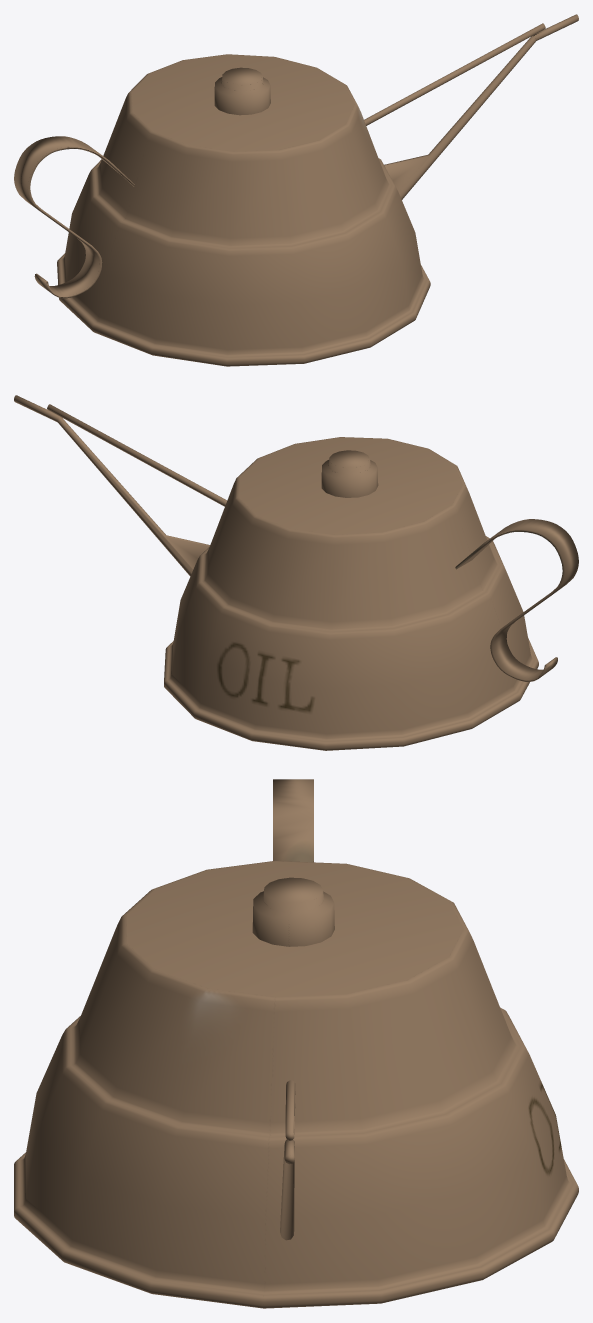
Rendered from collectible.fbx.
3 views of the same model, one above another, from view 1: azimuth 30°, elevation 25°; view 2: azimuth 150°, elevation 25°; view 3: azimuth 270°, elevation 25° (orthographic). The views are drawn at different scales.
Parts seen in each view (by area): view 1: Base, Nokka, Kahva, Korkki; view 2: Base, Nokka, Kahva, Korkki; view 3: Base, Korkki, Kahva, Nokka.
Boxes of the visible parts, x1,y1,x2,y2 form: Base: (57, 54, 430, 366); Nokka: (364, 14, 578, 199); Kahva: (14, 136, 134, 298); Korkki: (214, 67, 270, 115); Base: (164, 437, 538, 750); Nokka: (14, 395, 227, 576); Kahva: (455, 519, 578, 681); Korkki: (321, 450, 378, 497); Base: (14, 860, 578, 1308); Korkki: (252, 877, 334, 946); Kahva: (273, 779, 313, 862); Nokka: (280, 1080, 295, 1240).
Size of the model in its own units: 118 by 42.7 by 71.34.
